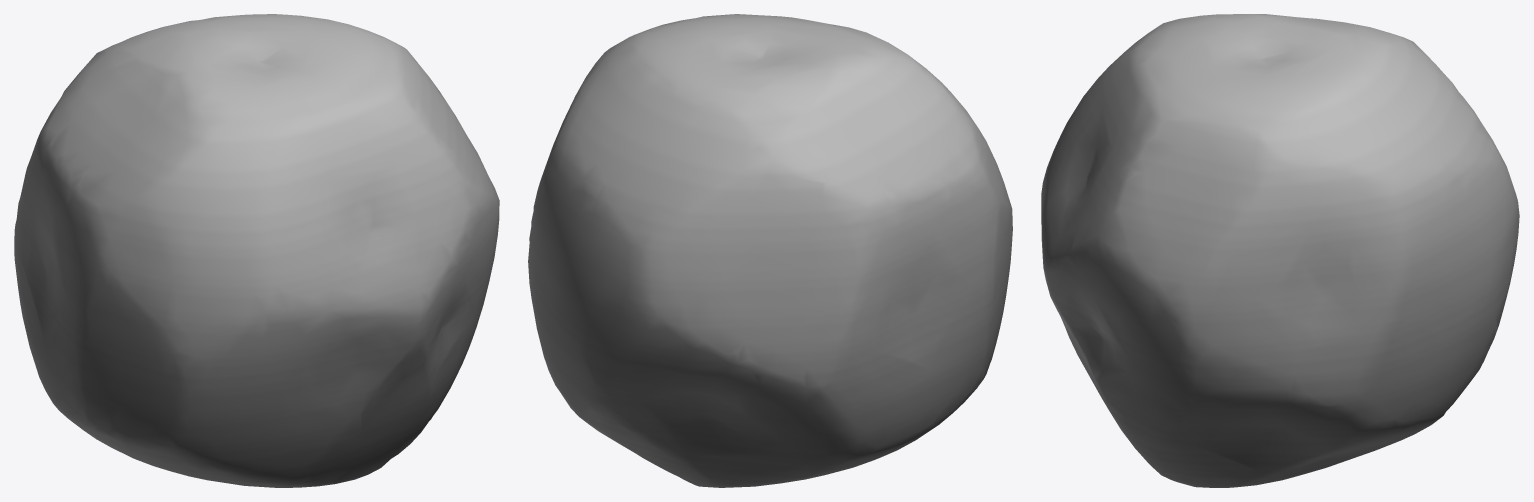
Rendered from Rock-4.fbx.
The picture shows the model from 3 angles, left to right: view 1: azimuth 30°, elevation 25°; view 2: azimuth 150°, elevation 25°; view 3: azimuth 270°, elevation 25°; orthographic projection.
Parts seen in each view (by area): view 1: Rock-4; view 2: Rock-4; view 3: Rock-4.
Boxes of the visible parts, x1,y1,x2,y2 form: Rock-4: (14, 14, 499, 487); Rock-4: (528, 14, 1012, 487); Rock-4: (1041, 14, 1519, 487).
Bounding box in the file's own units: 170 × 167 × 175.
